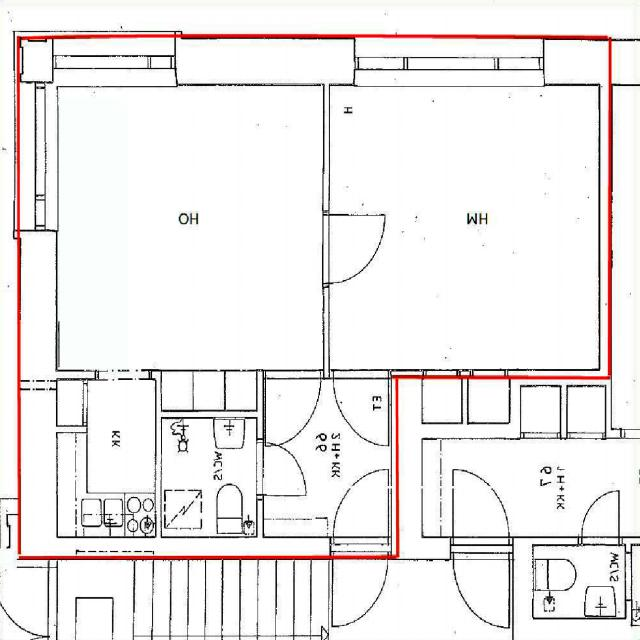door: (334, 470, 388, 557), (334, 538, 388, 624), (334, 370, 389, 446), (266, 370, 321, 446), (324, 214, 386, 281), (257, 442, 305, 494)
